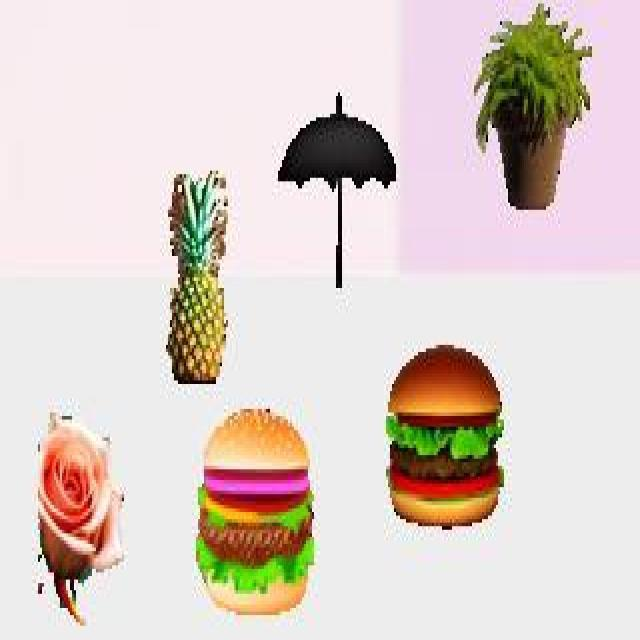Other Objects: (472, 4, 592, 210), (196, 406, 314, 612), (386, 344, 504, 530), (38, 404, 124, 626)
